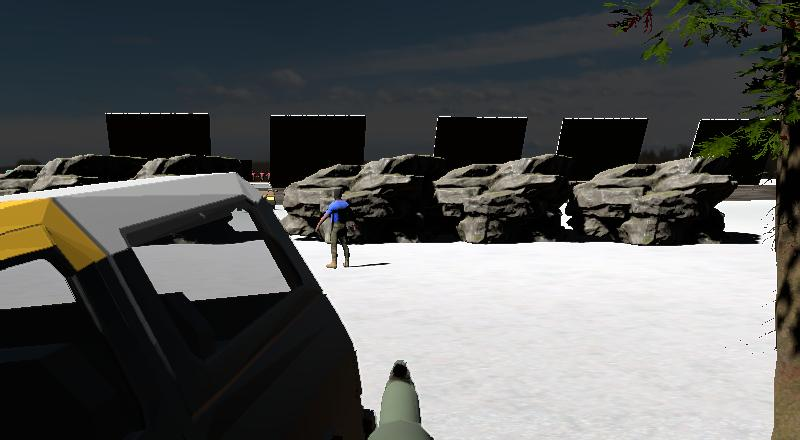car: (2, 128, 391, 438)
